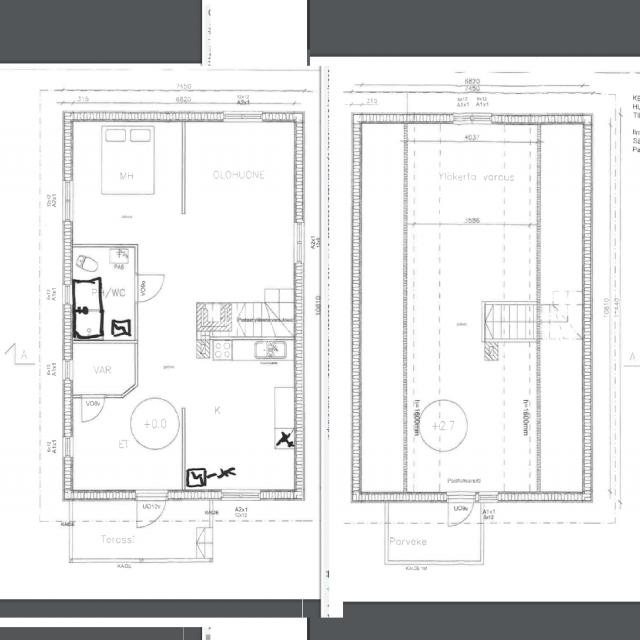door: (136, 489, 166, 532), (448, 492, 474, 530), (135, 275, 164, 302), (81, 394, 104, 422)
